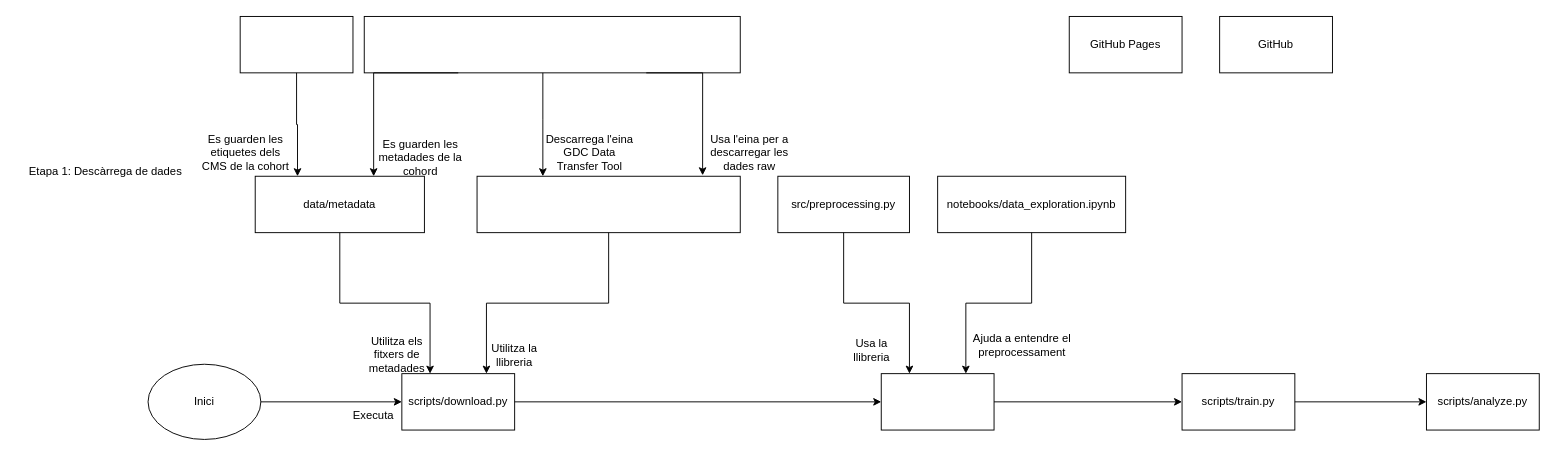
Image size: 1556x456. Some labels were removed from this diagram. The shapes that lost their labels are listed below. From the top down, each one's box as (x1, y1, x2, y2) in pixels, then its label:
(239, 16, 353, 73): Synapse
(363, 16, 740, 73): GDC Data Portal
(476, 175, 740, 233): src/gdc_utils.py
(880, 373, 994, 430): scripts/preprocess.py
